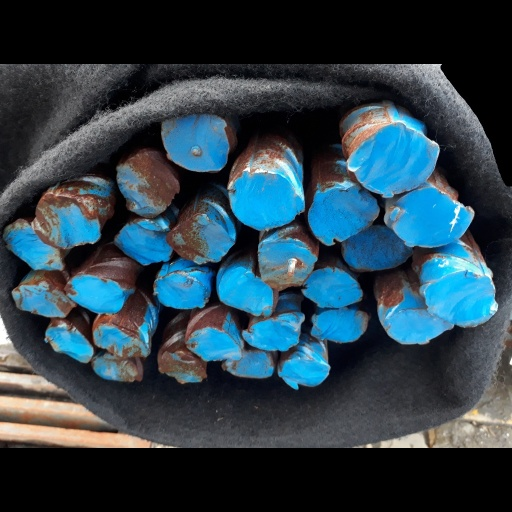dipstick: (344, 122, 439, 199), (381, 185, 475, 248), (226, 170, 305, 231), (115, 147, 180, 218), (424, 268, 499, 327), (307, 185, 379, 245), (161, 112, 229, 173), (33, 193, 102, 250), (166, 213, 236, 265), (1, 219, 70, 271), (340, 224, 416, 271), (256, 239, 316, 291), (386, 306, 457, 347), (114, 219, 174, 266), (301, 265, 363, 308), (219, 271, 275, 317), (241, 311, 304, 351), (64, 275, 125, 315), (11, 282, 78, 318), (152, 271, 211, 310), (92, 321, 152, 358), (43, 321, 95, 363), (310, 309, 370, 344), (186, 327, 244, 363), (278, 357, 331, 392), (157, 348, 207, 385), (221, 350, 275, 379), (92, 354, 145, 382)
